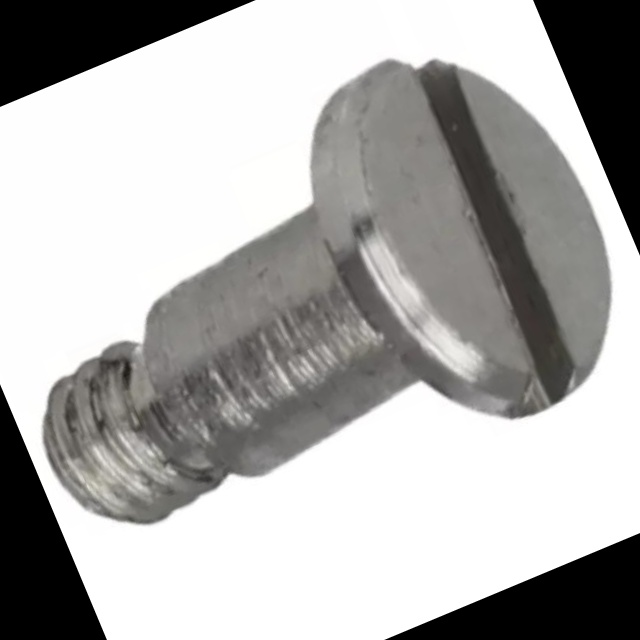duz: (267, 5, 640, 467)
